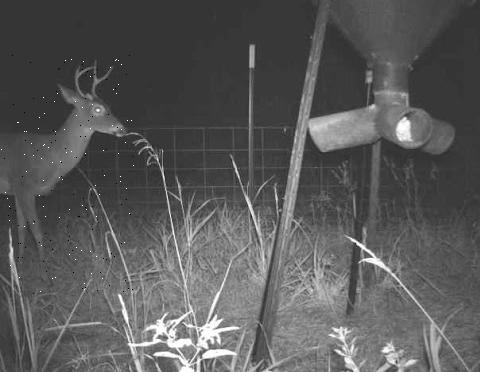Deer: (0, 55, 135, 294)
